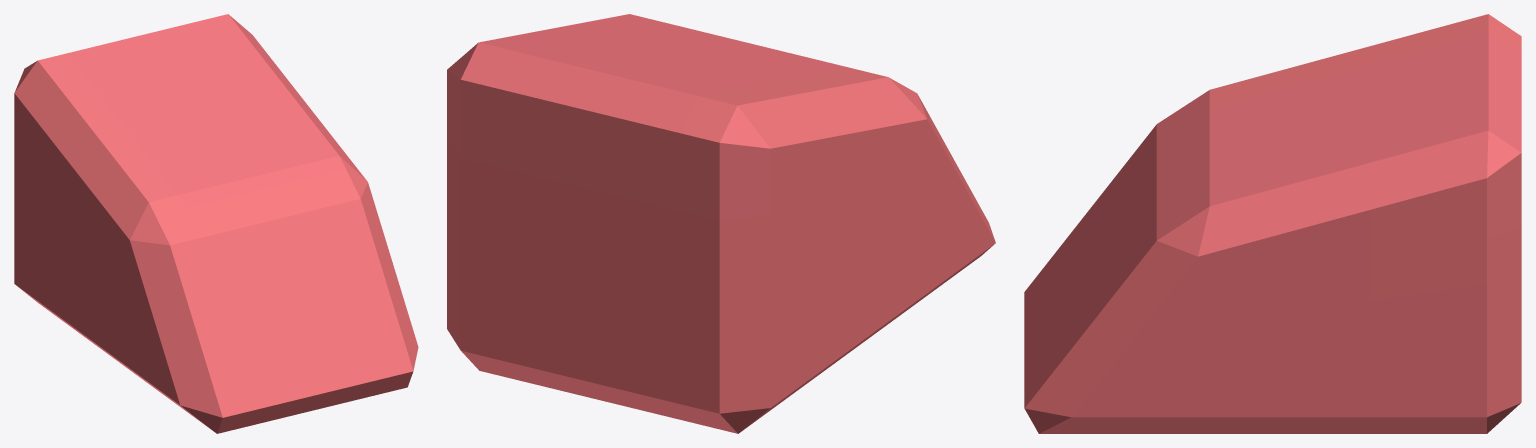
Rendered from TailPiece.fbx.
3 renders of one model, left to right at view 1: azimuth 30°, elevation 25°; view 2: azimuth 150°, elevation 25°; view 3: azimuth 270°, elevation 25°, orthographic. The views are drawn at different scales.
Parts seen in each view (by area): view 1: TailPiece; view 2: TailPiece; view 3: TailPiece.
Part boxes in pixels (x1,y1,x2,y2): TailPiece: (14,14,418,433); TailPiece: (447,14,995,433); TailPiece: (1024,14,1521,433).
Bounding box in the file's own units: 100 × 97.13 × 144.
